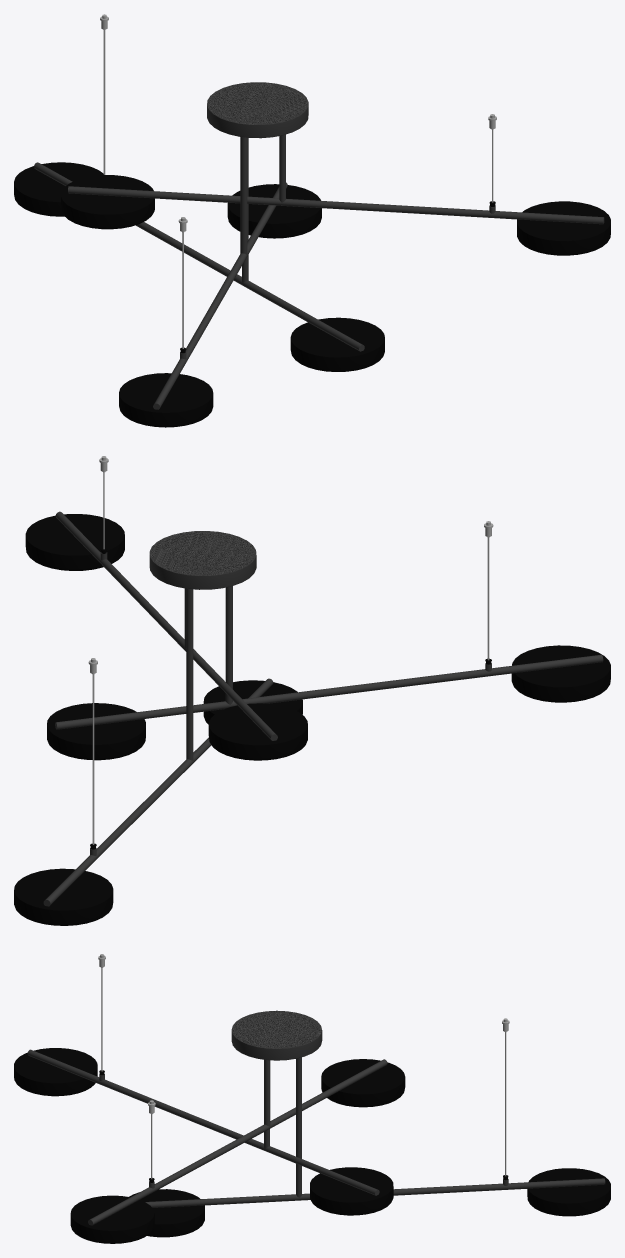
File: chandelier.glb
3 views of the same model, one above another, from view 1: azimuth 30°, elevation 25°; view 2: azimuth 150°, elevation 25°; view 3: azimuth 270°, elevation 25° (orthographic). The views are drawn at different scales.
Visible parts, largest first — view 1: ChamferCyl001, Cylinder004, ChamferCyl017, ChamferCyl020, ChamferCyl015, ChamferCyl016, ChamferCyl018, ChamferCyl019, Cylinder025, Cylinder020, Cylinder001; view 2: ChamferCyl001, ChamferCyl016, ChamferCyl019, Cylinder020, ChamferCyl015, ChamferCyl017, ChamferCyl018, Cylinder004, Cylinder025, Cylinder003, ChamferCyl020, Cylinder001; view 3: ChamferCyl001, ChamferCyl015, ChamferCyl018, ChamferCyl016, ChamferCyl017, ChamferCyl019, Cylinder025, Cylinder020, Cylinder004, ChamferCyl020, Cylinder003, Cylinder002.
Part boxes in pixels (bbox=[...]): ChamferCyl001: bbox=[207, 82, 308, 138]; Cylinder004: bbox=[68, 186, 604, 224]; ChamferCyl017: bbox=[119, 373, 213, 427]; ChamferCyl020: bbox=[290, 317, 384, 371]; ChamferCyl015: bbox=[517, 201, 610, 255]; ChamferCyl016: bbox=[61, 175, 154, 229]; ChamferCyl018: bbox=[227, 184, 321, 238]; ChamferCyl019: bbox=[14, 162, 103, 216]; Cylinder025: bbox=[34, 162, 364, 351]; Cylinder020: bbox=[153, 182, 287, 409]; Cylinder001: bbox=[240, 137, 247, 254]; ChamferCyl001: bbox=[149, 531, 256, 589]; ChamferCyl016: bbox=[208, 703, 307, 760]; ChamferCyl019: bbox=[14, 868, 113, 925]; Cylinder020: bbox=[55, 654, 603, 729]; ChamferCyl015: bbox=[25, 514, 124, 570]; ChamferCyl017: bbox=[511, 645, 610, 702]; ChamferCyl018: bbox=[47, 703, 145, 760]; Cylinder004: bbox=[55, 511, 277, 740]; Cylinder025: bbox=[43, 678, 273, 906]; Cylinder003: bbox=[186, 588, 193, 760]; ChamferCyl020: bbox=[203, 680, 302, 724]; Cylinder001: bbox=[225, 586, 232, 704]; ChamferCyl001: bbox=[231, 1010, 322, 1060]; ChamferCyl015: bbox=[70, 1195, 154, 1243]; ChamferCyl018: bbox=[310, 1167, 393, 1215]; ChamferCyl016: bbox=[321, 1059, 405, 1107]; ChamferCyl017: bbox=[14, 1048, 97, 1096]; ChamferCyl019: bbox=[527, 1168, 610, 1216]; Cylinder025: bbox=[145, 1178, 605, 1207]; Cylinder020: bbox=[27, 1049, 379, 1195]; Cylinder004: bbox=[88, 1059, 387, 1225]; ChamferCyl020: bbox=[129, 1189, 204, 1237]; Cylinder003: bbox=[296, 1057, 301, 1197]; Cylinder002: bbox=[264, 1059, 270, 1126].
Size of the model in its own units: 0.8979 by 0.3464 by 1.02.
Materials: 4 (1 with a texture image).
